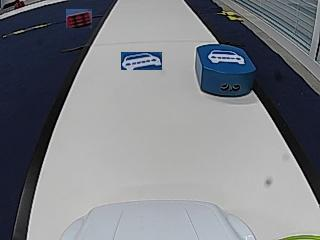safety: (208, 49, 245, 64)
